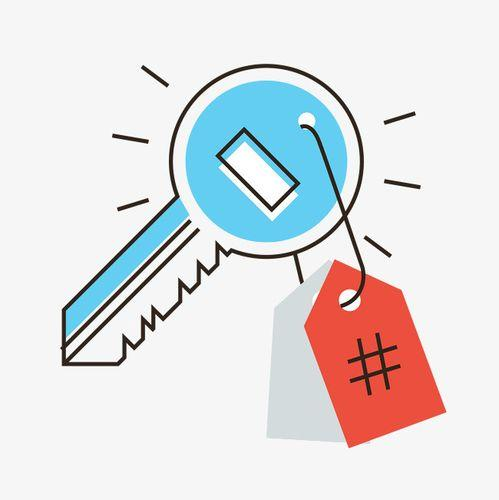key: (42, 37, 427, 402)
